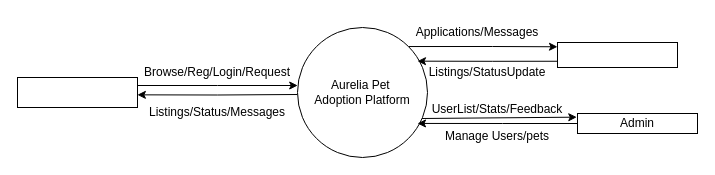
Image size: 715x175. Some labels were removed from this diagram. The centre of each missing label's shape, as x and y in pixels:
Adopter: the point at 77,92
Shelter: the point at 617,55
